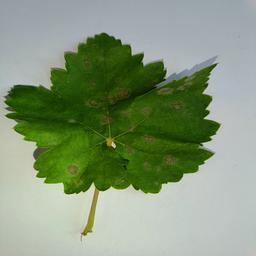Powdery-Mildew: (49, 149, 82, 177), (83, 96, 111, 128), (107, 85, 135, 112), (160, 84, 180, 104), (139, 130, 156, 147), (183, 77, 199, 94), (40, 128, 57, 144), (163, 153, 180, 169)
